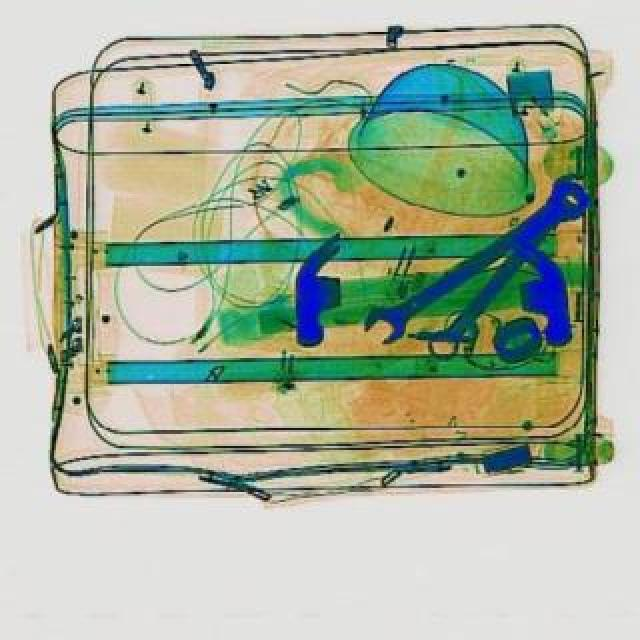scissors: (356, 166, 600, 350), (420, 168, 592, 364)
